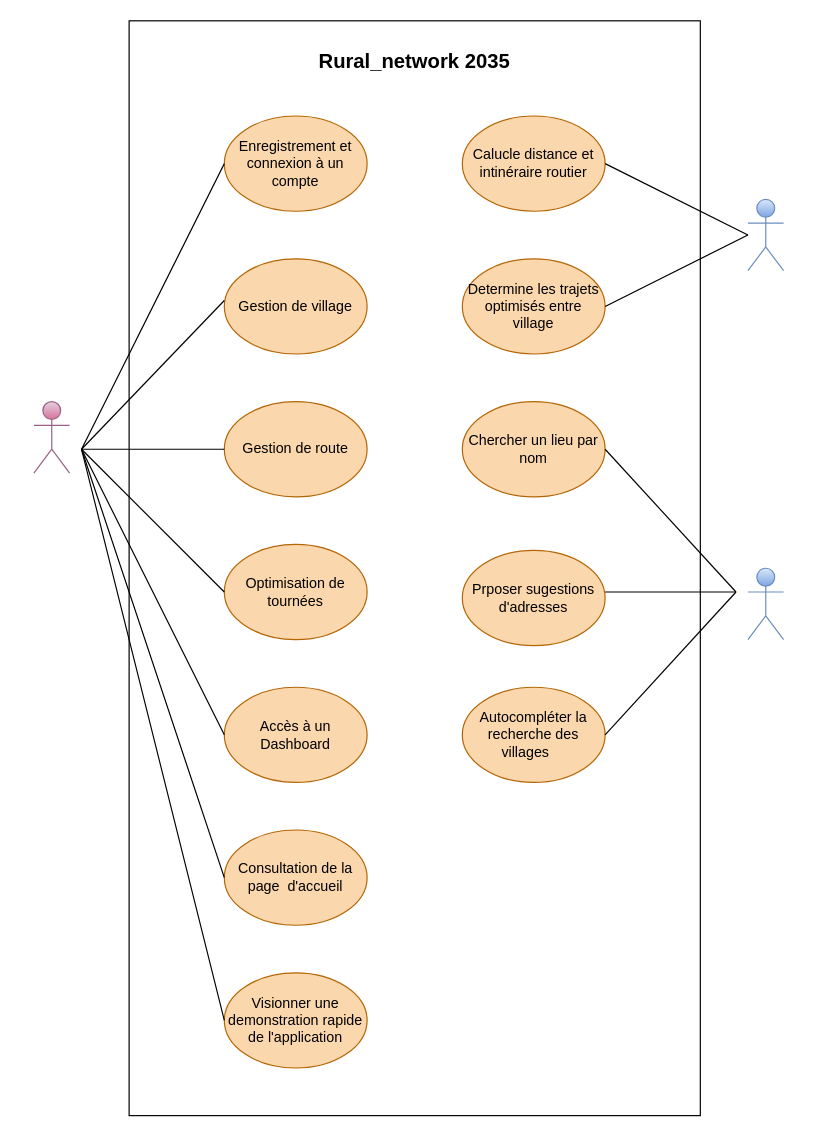
Some shapes in this 821 by 1136 pixel diagram are drawn without their labels. Here are the shapes that lost their labels. From the top down, the centre of each, then its label:
(765,234): "SYSTEM" OSRM
(51,436): Utilisateur
(765,603): "SYSTEM" Nominatim
